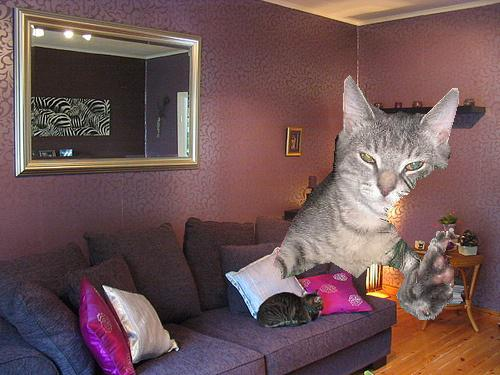tampered: (274, 76, 459, 320)
